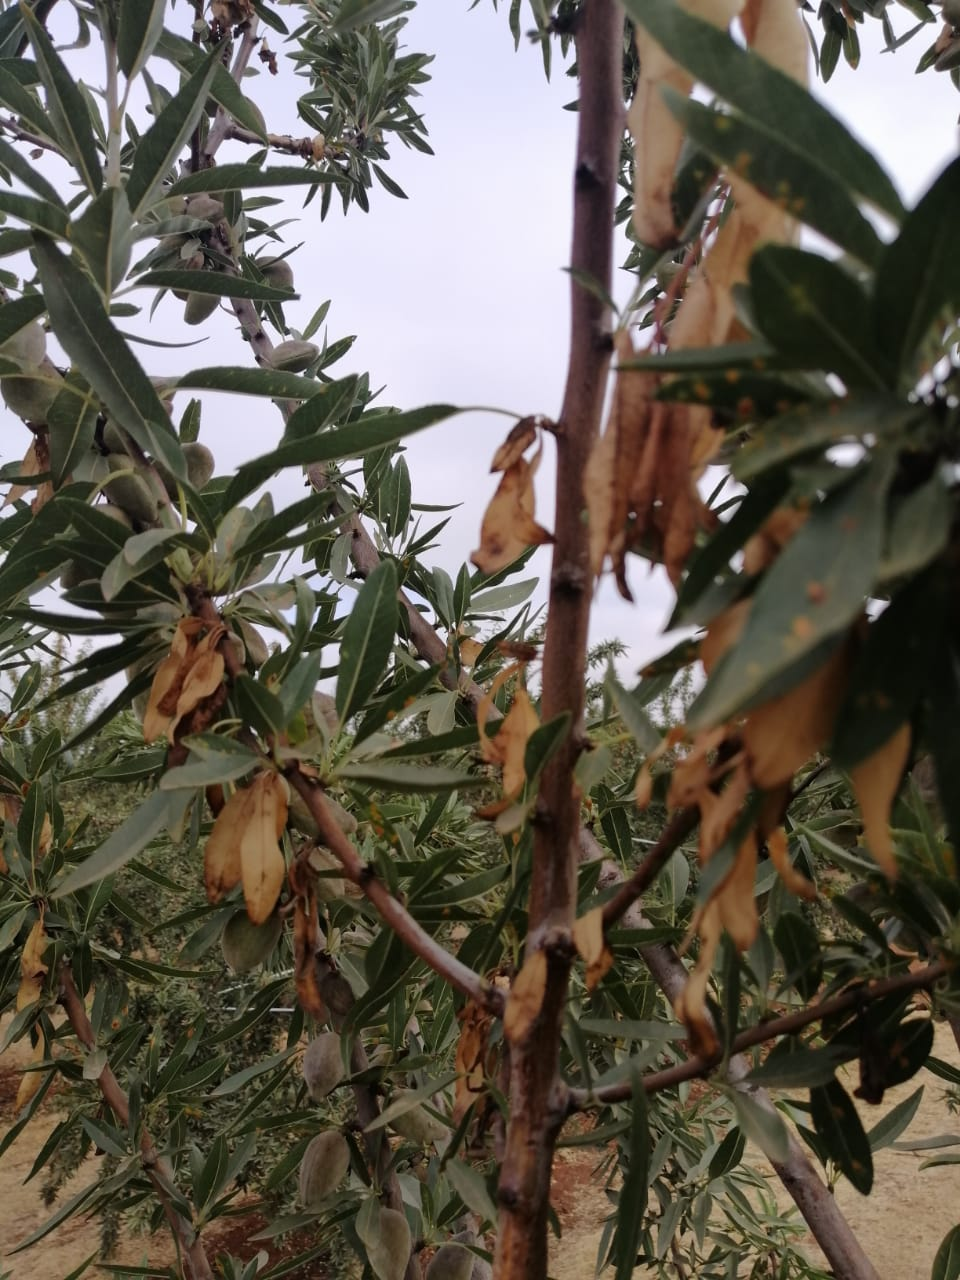scolytes: (469, 8, 819, 808), (568, 492, 960, 1058), (146, 613, 334, 1014)
